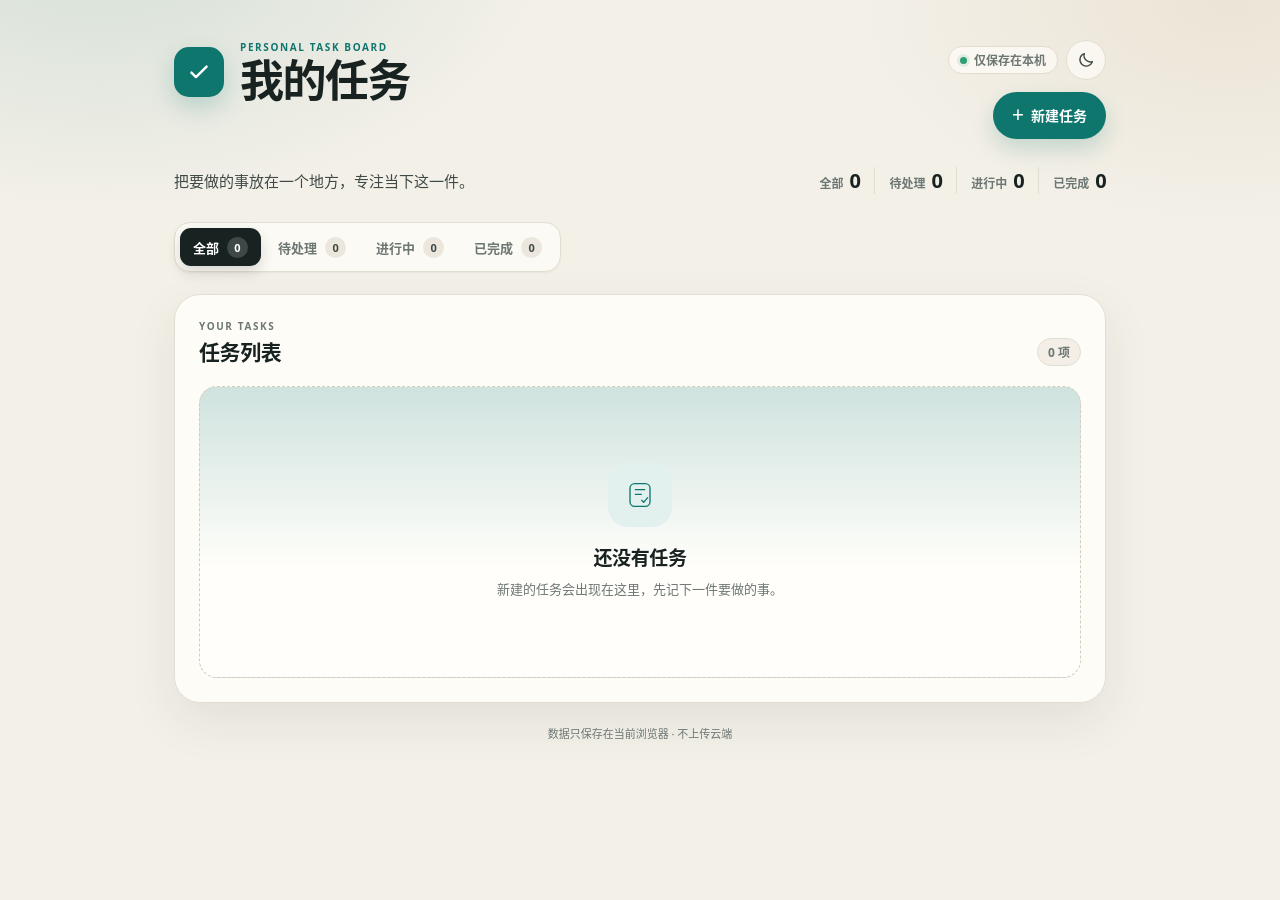
empty board and filters › shows the empty state and filter-specific empty copy
This screenshot has width=1280, height=900.
Check: the heading "还没有任务" is shown, box [593,544,686,572]
Click the button "待处理 0".
click(312, 247)  # box [265,228,359,266]
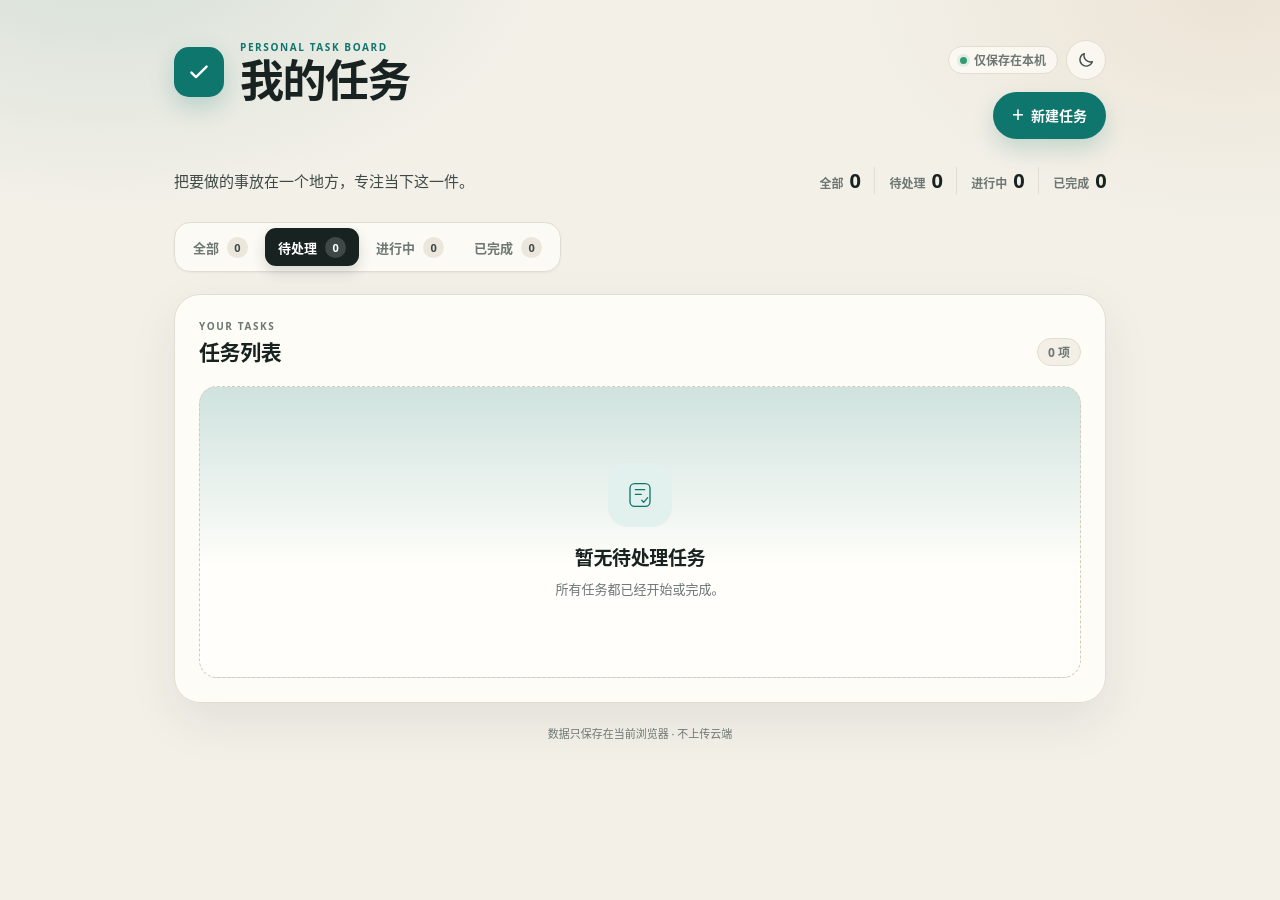
Check: the heading "暂无待处理任务" is shown, box [575,544,705,572]
